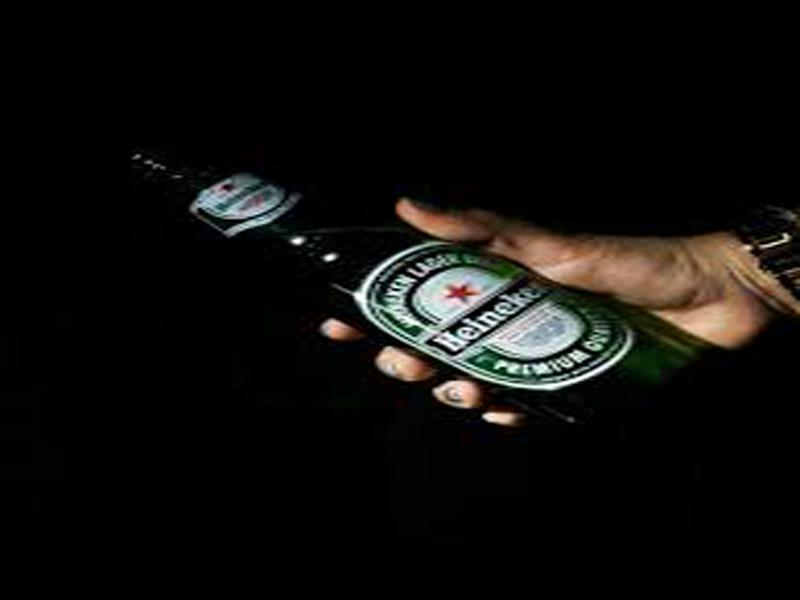Beer: (107, 141, 726, 434)
